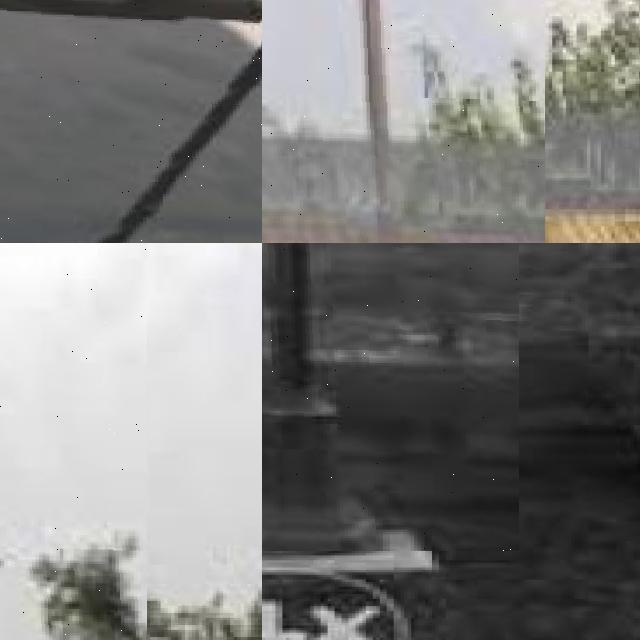street light: (262, 243, 519, 550), (262, 0, 545, 243), (0, 0, 262, 243), (0, 243, 146, 640)
